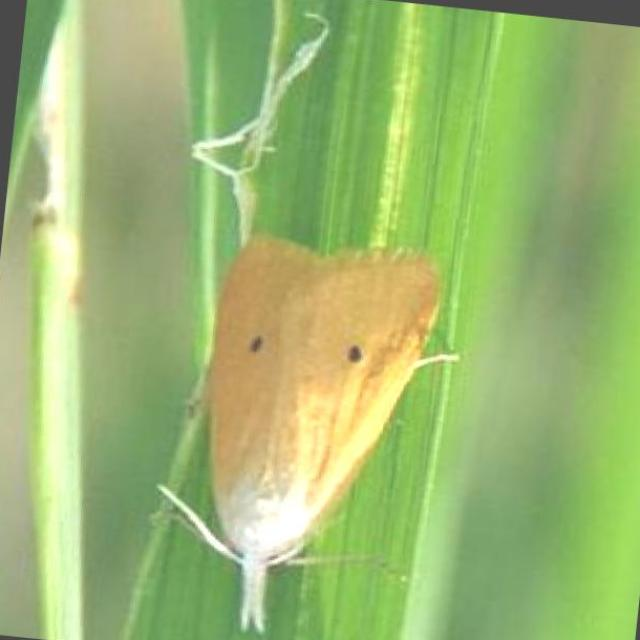stem borer: (159, 238, 458, 632)
